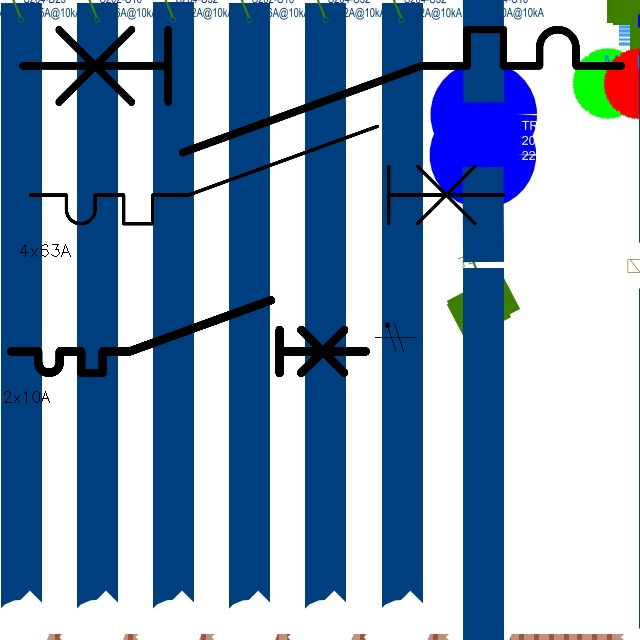interruptor_termomagnetico: (7, 14, 637, 168), (18, 114, 516, 236), (2, 291, 374, 382)
